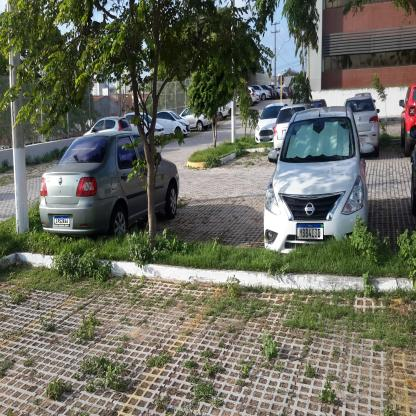PlacaM: (297, 223, 323, 240), (54, 216, 70, 225)
